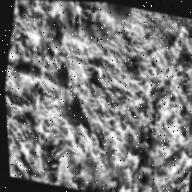boar: (47, 6, 70, 44), (56, 56, 76, 89), (62, 1, 80, 35), (70, 2, 86, 37), (70, 92, 85, 118)
